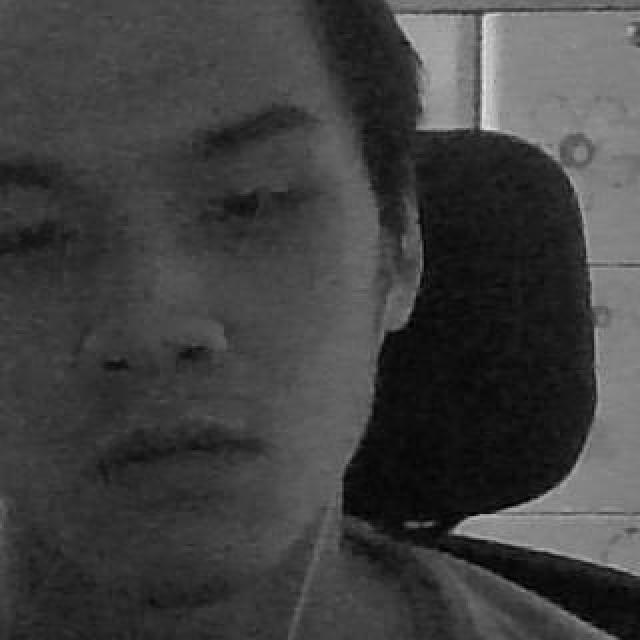Focused: (0, 0, 380, 594)
